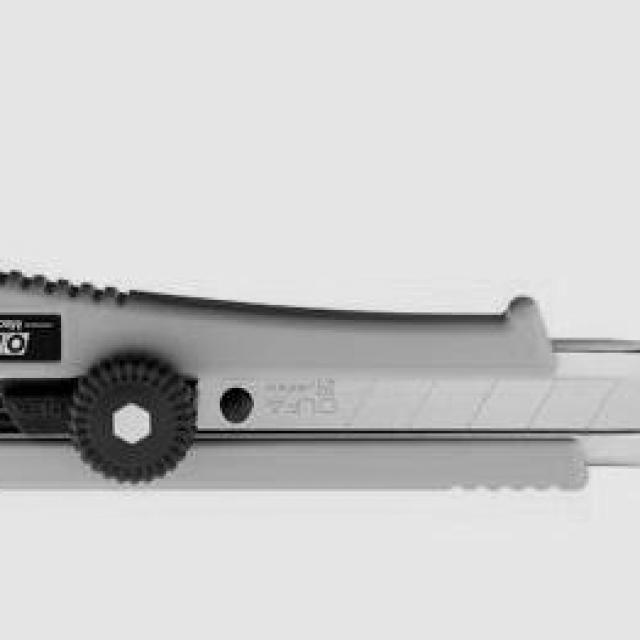estilete: (0, 266, 640, 489)
